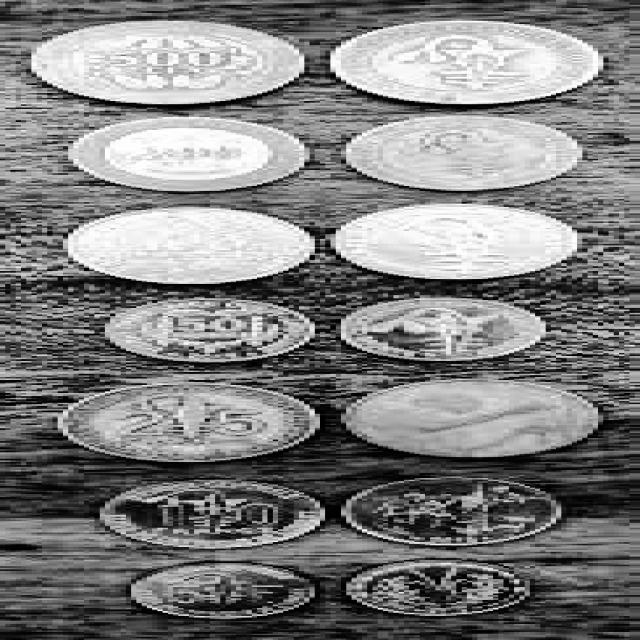derem: (347, 561, 527, 615), (135, 564, 315, 618)
fukk: (106, 299, 311, 361), (339, 299, 540, 359)
juroom derem: (61, 384, 319, 462), (347, 381, 597, 456)
niaari derem: (102, 480, 327, 549), (343, 478, 560, 546), (352, 564, 527, 616)
niaari fukk: (335, 205, 576, 279), (69, 208, 307, 282)
nient fukk: (74, 119, 298, 189), (352, 118, 572, 189)
teemeer: (335, 22, 597, 102), (37, 22, 298, 102)
